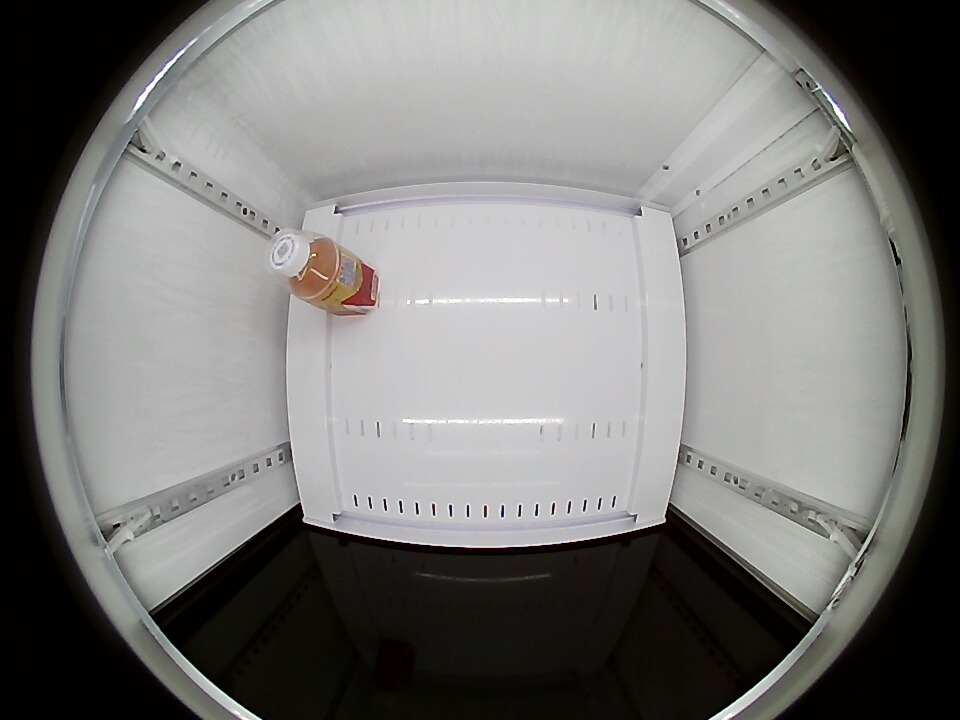dongpeng-b: (267, 229, 344, 302)
